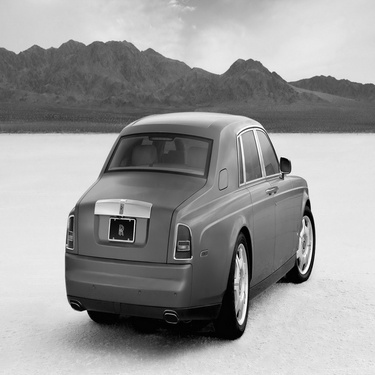car: (38, 110, 333, 324)
